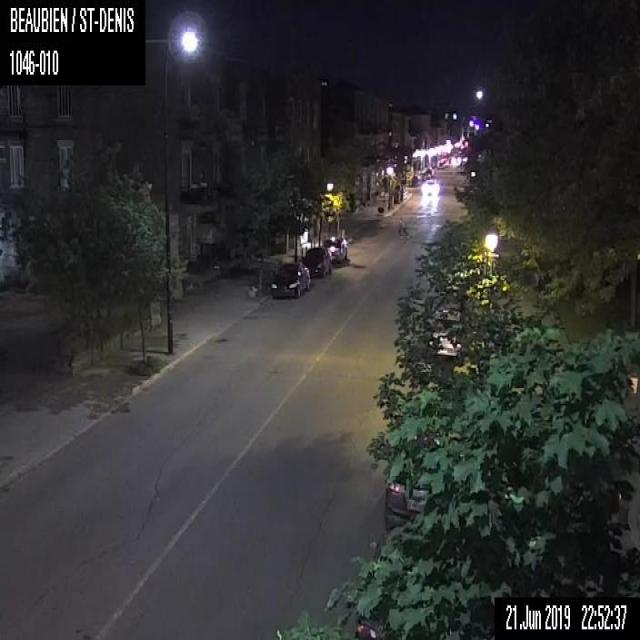pedestrian: (398, 217, 403, 238), (404, 215, 408, 238)
vehicle: (356, 532, 389, 638), (382, 484, 433, 532), (423, 310, 464, 360), (267, 261, 310, 299), (301, 246, 331, 276), (322, 235, 347, 264), (420, 176, 439, 195)
